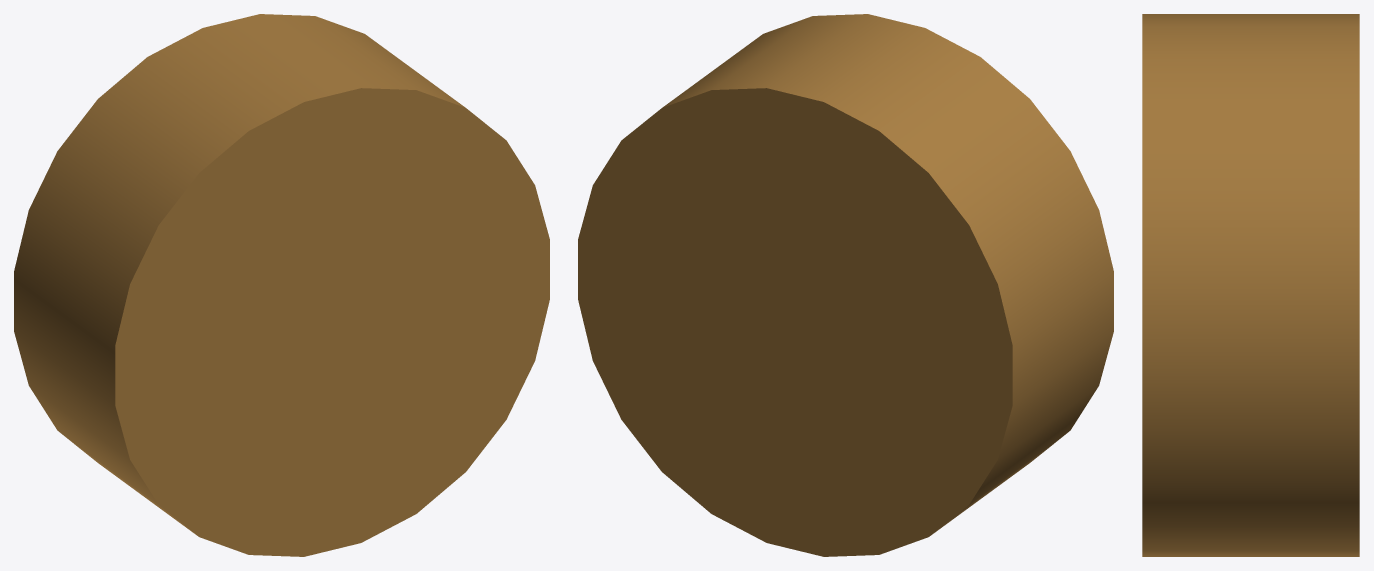
The model's file is original-8.obj.
3 views of the same model, side by side, from view 1: azimuth 30°, elevation 25°; view 2: azimuth 150°, elevation 25°; view 3: azimuth 270°, elevation 25° (orthographic). The views are drawn at different scales.
Parts seen in each view (by area): view 1: Group5/mesh18/mesh18-geometry#mesh18-geometry; view 2: Group5/mesh18/mesh18-geometry#mesh18-geometry; view 3: Group5/mesh18/mesh18-geometry#mesh18-geometry.
Part boxes in pixels (box(x1,y1,x2,y2)): Group5/mesh18/mesh18-geometry#mesh18-geometry: box(14, 14, 549, 556); Group5/mesh18/mesh18-geometry#mesh18-geometry: box(578, 14, 1113, 556); Group5/mesh18/mesh18-geometry#mesh18-geometry: box(1142, 14, 1359, 556).
Bounding box in the file's own units: 0.0411 × 0.0411 × 0.0166.
